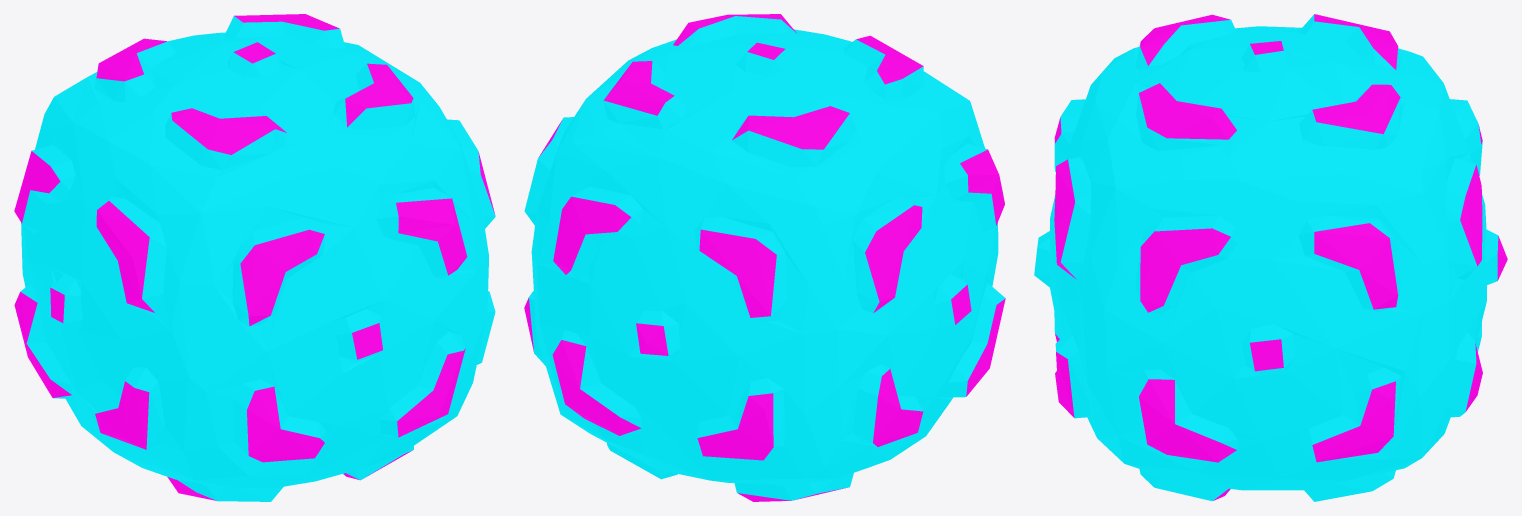
File: slower_trap.glb
3 renders of one model, left to right at view 1: azimuth 30°, elevation 25°; view 2: azimuth 150°, elevation 25°; view 3: azimuth 270°, elevation 25°, orthographic.
Visible parts, largest first — view 1: slower_trap_BAKED; view 2: slower_trap_BAKED; view 3: slower_trap_BAKED.
Part boxes in pixels (x1,y1,x2,y2): slower_trap_BAKED: (14, 14, 495, 501); slower_trap_BAKED: (524, 14, 1005, 501); slower_trap_BAKED: (1034, 14, 1507, 501).
Bounding box in the file's own units: 2.18 × 2.18 × 2.21.
